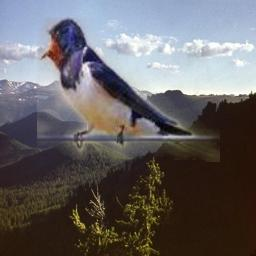Swallow: (37, 17, 220, 162)
